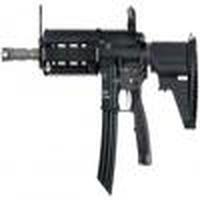gun: (2, 27, 200, 138)
